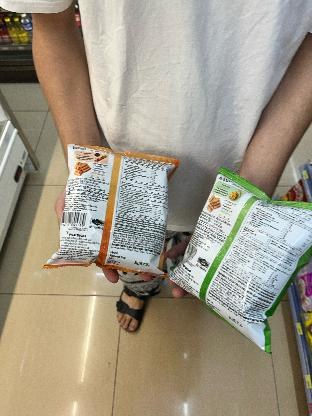Plastic Packaging: (162, 170, 312, 358), (47, 138, 175, 288)
